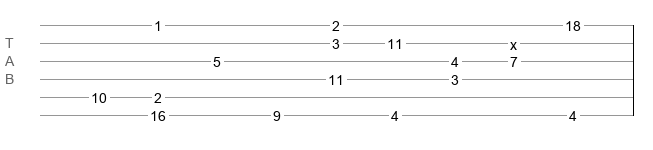1: (154, 18, 162, 28)
10: (91, 90, 107, 100)
11: (328, 72, 344, 82), (387, 36, 403, 46)
16: (150, 108, 166, 118)
18: (565, 18, 581, 28)
2: (154, 90, 162, 100), (332, 18, 340, 28)
3: (332, 36, 340, 46), (451, 72, 459, 82)
4: (391, 108, 399, 118), (451, 54, 459, 64), (569, 108, 577, 118)
5: (213, 54, 221, 64)
7: (510, 54, 518, 64)
9: (273, 108, 281, 118)
x: (510, 37, 517, 45)
